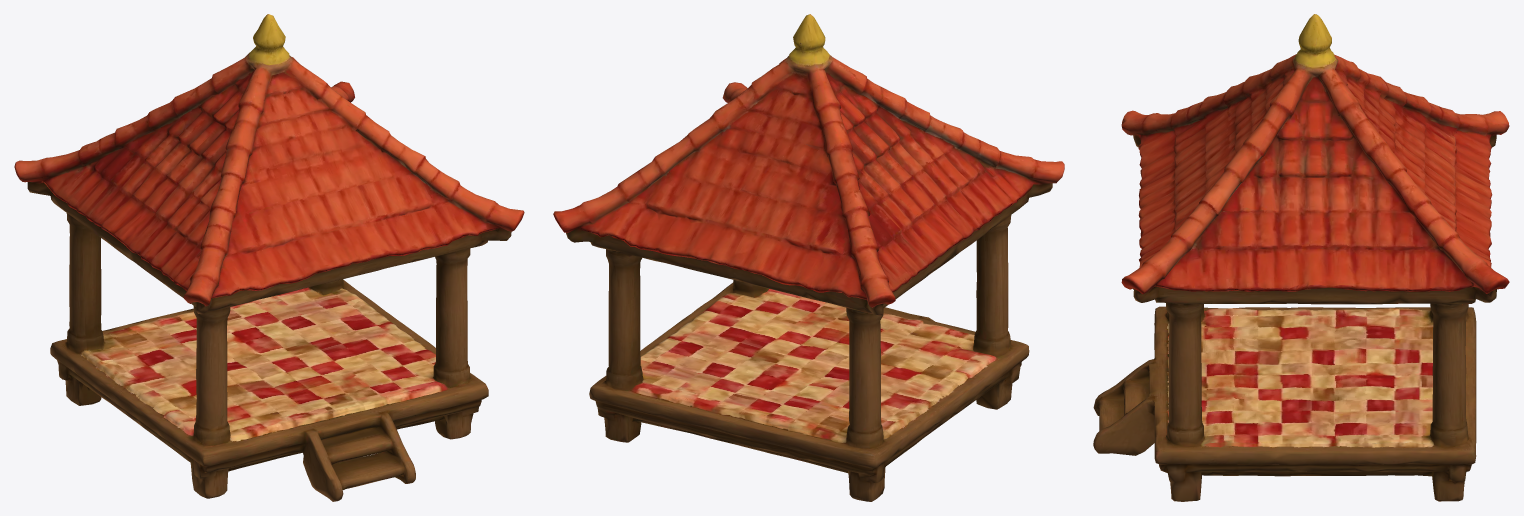
File: wakaf.glb
The picture shows the model from 3 angles, left to right: view 1: azimuth 30°, elevation 25°; view 2: azimuth 150°, elevation 25°; view 3: azimuth 270°, elevation 25°; orthographic projection. The views are drawn at different scales.
Size of the model in its own units: 0.8716 by 0.9984 by 0.8931.
Materials: 1 (1 with a texture image).
